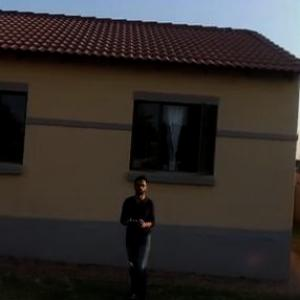follow: (116, 167, 160, 299)
